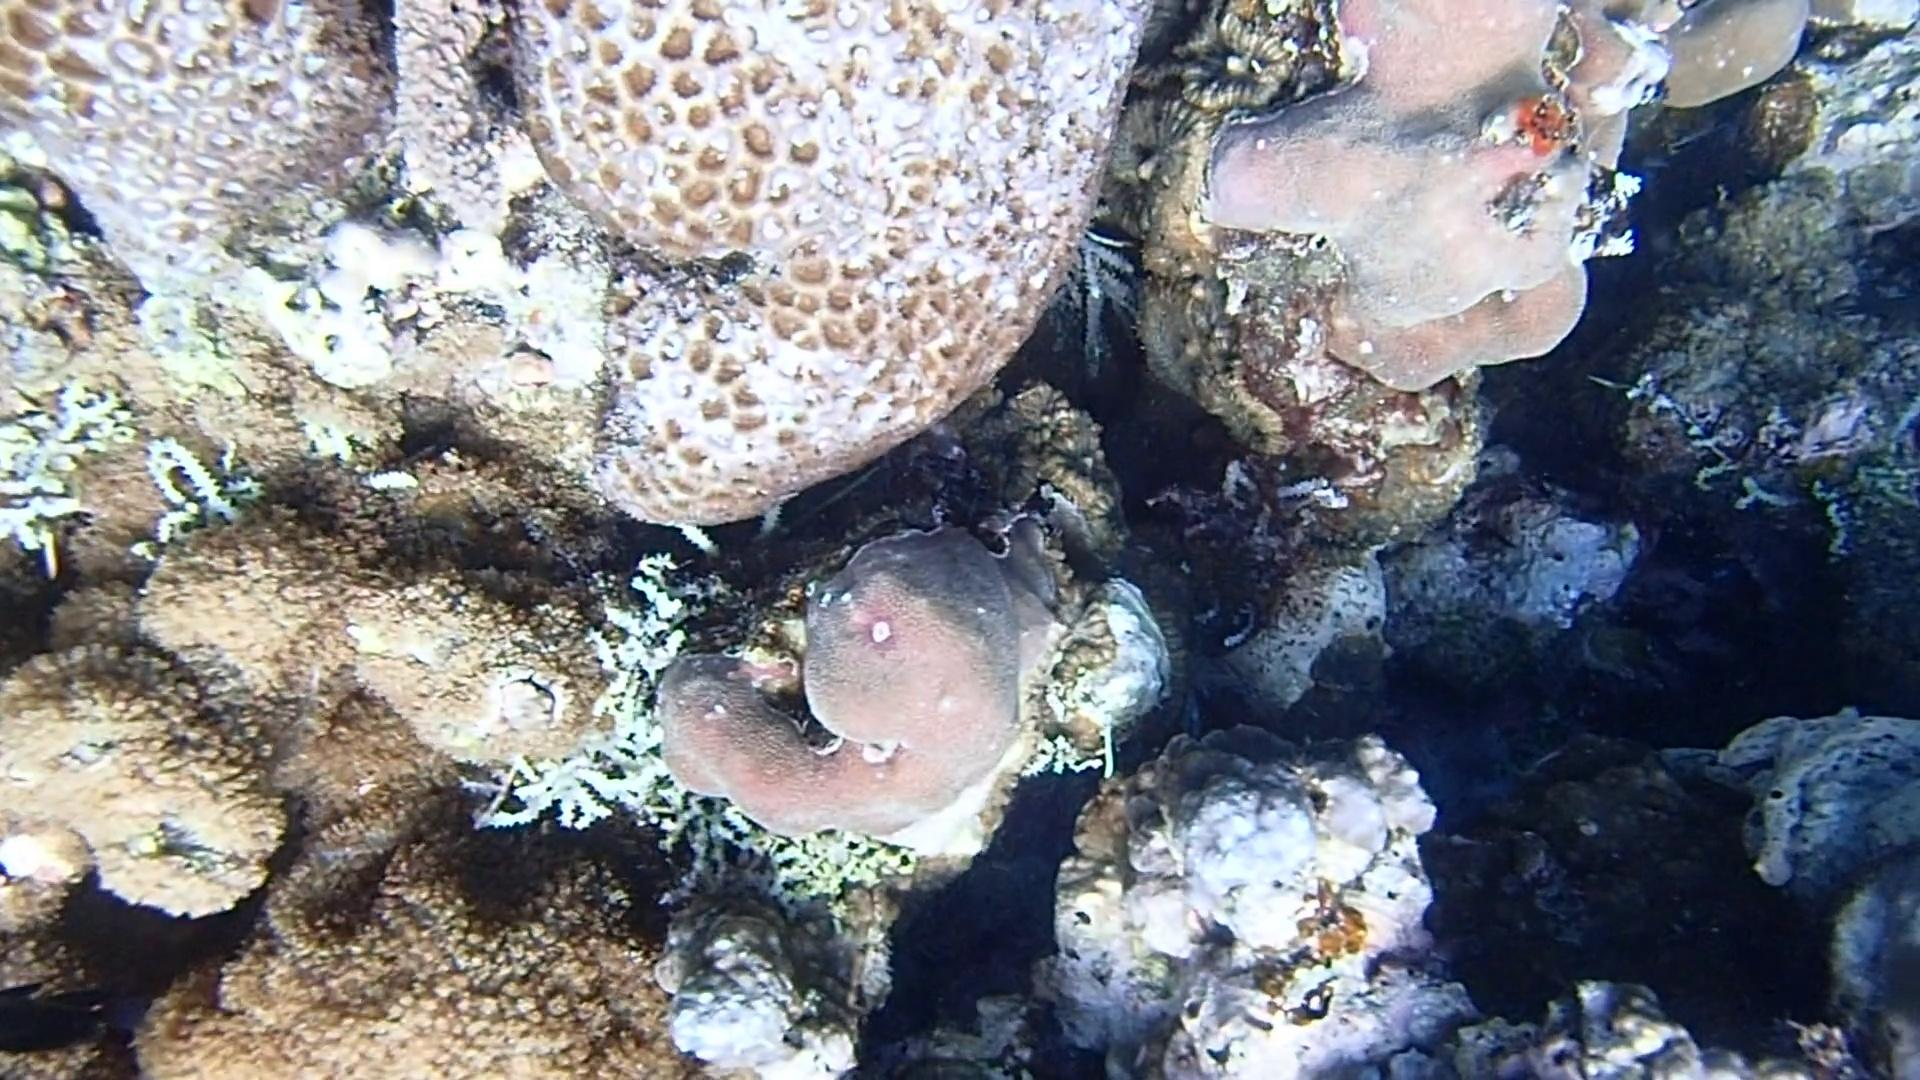Dark Fish: (0, 965, 165, 1072)
